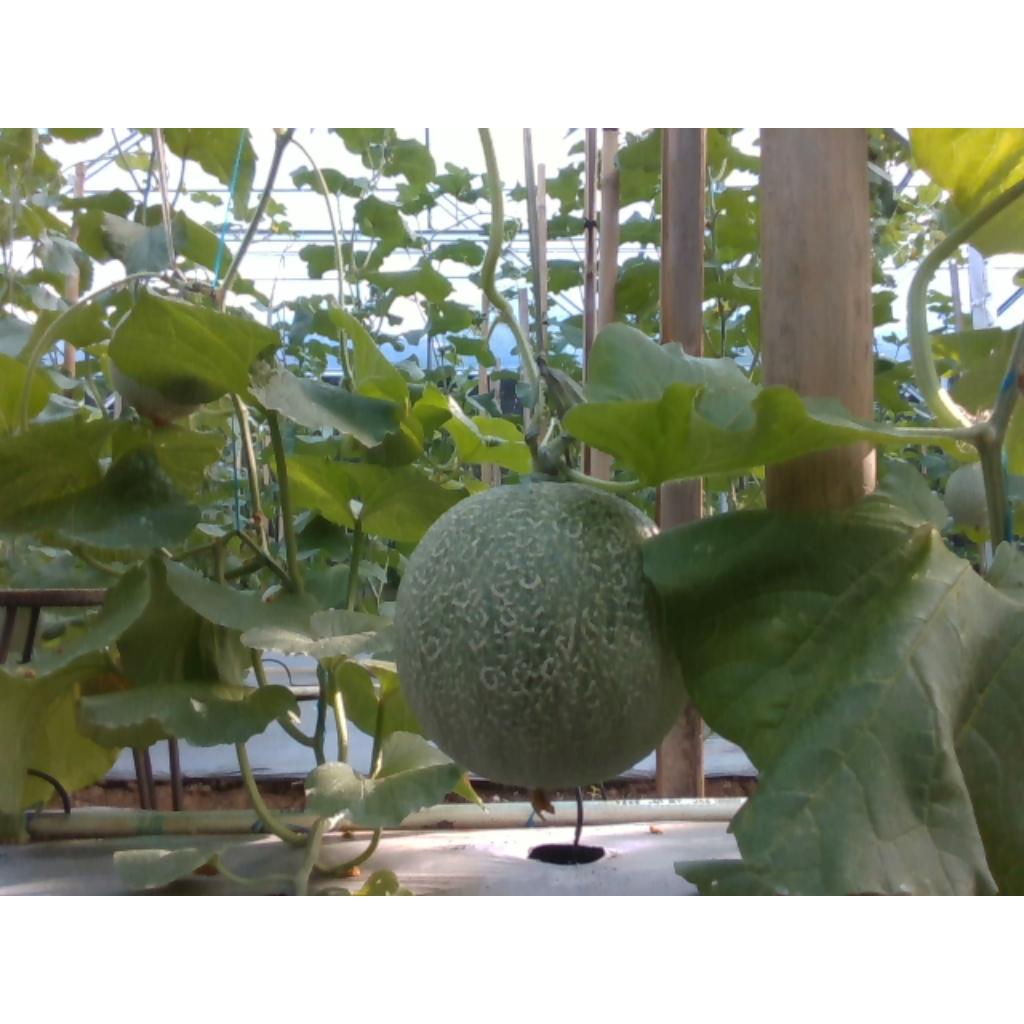melon: (395, 482, 688, 790)
